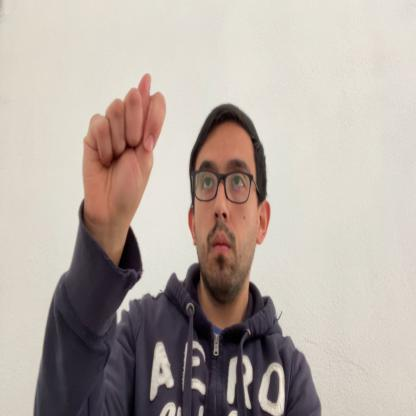T: (83, 71, 165, 253)
